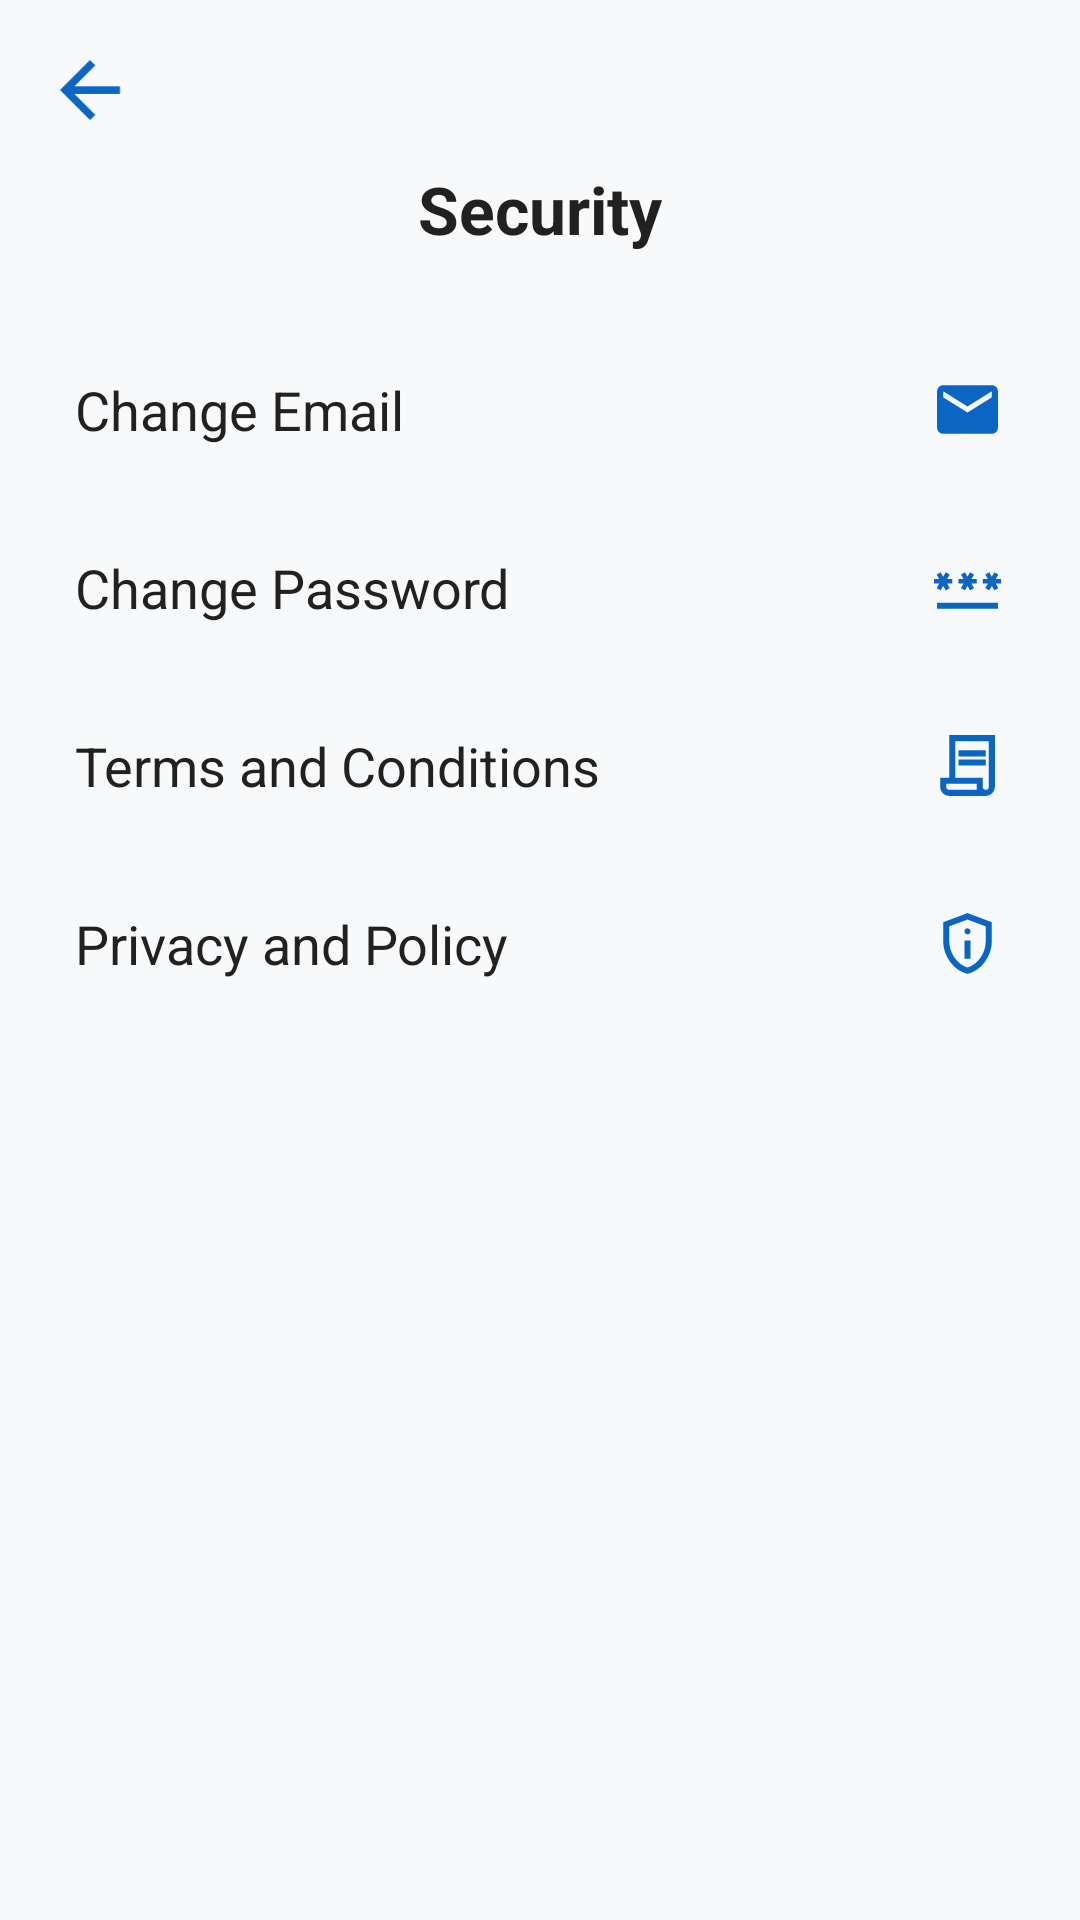

Icons on this 1080 × 1920 Android screen, each with its box as [x1, y1, x2, y2]:
back: [60, 60, 121, 120]
contract: [940, 735, 995, 796]
privacy tip: [943, 913, 992, 974]
